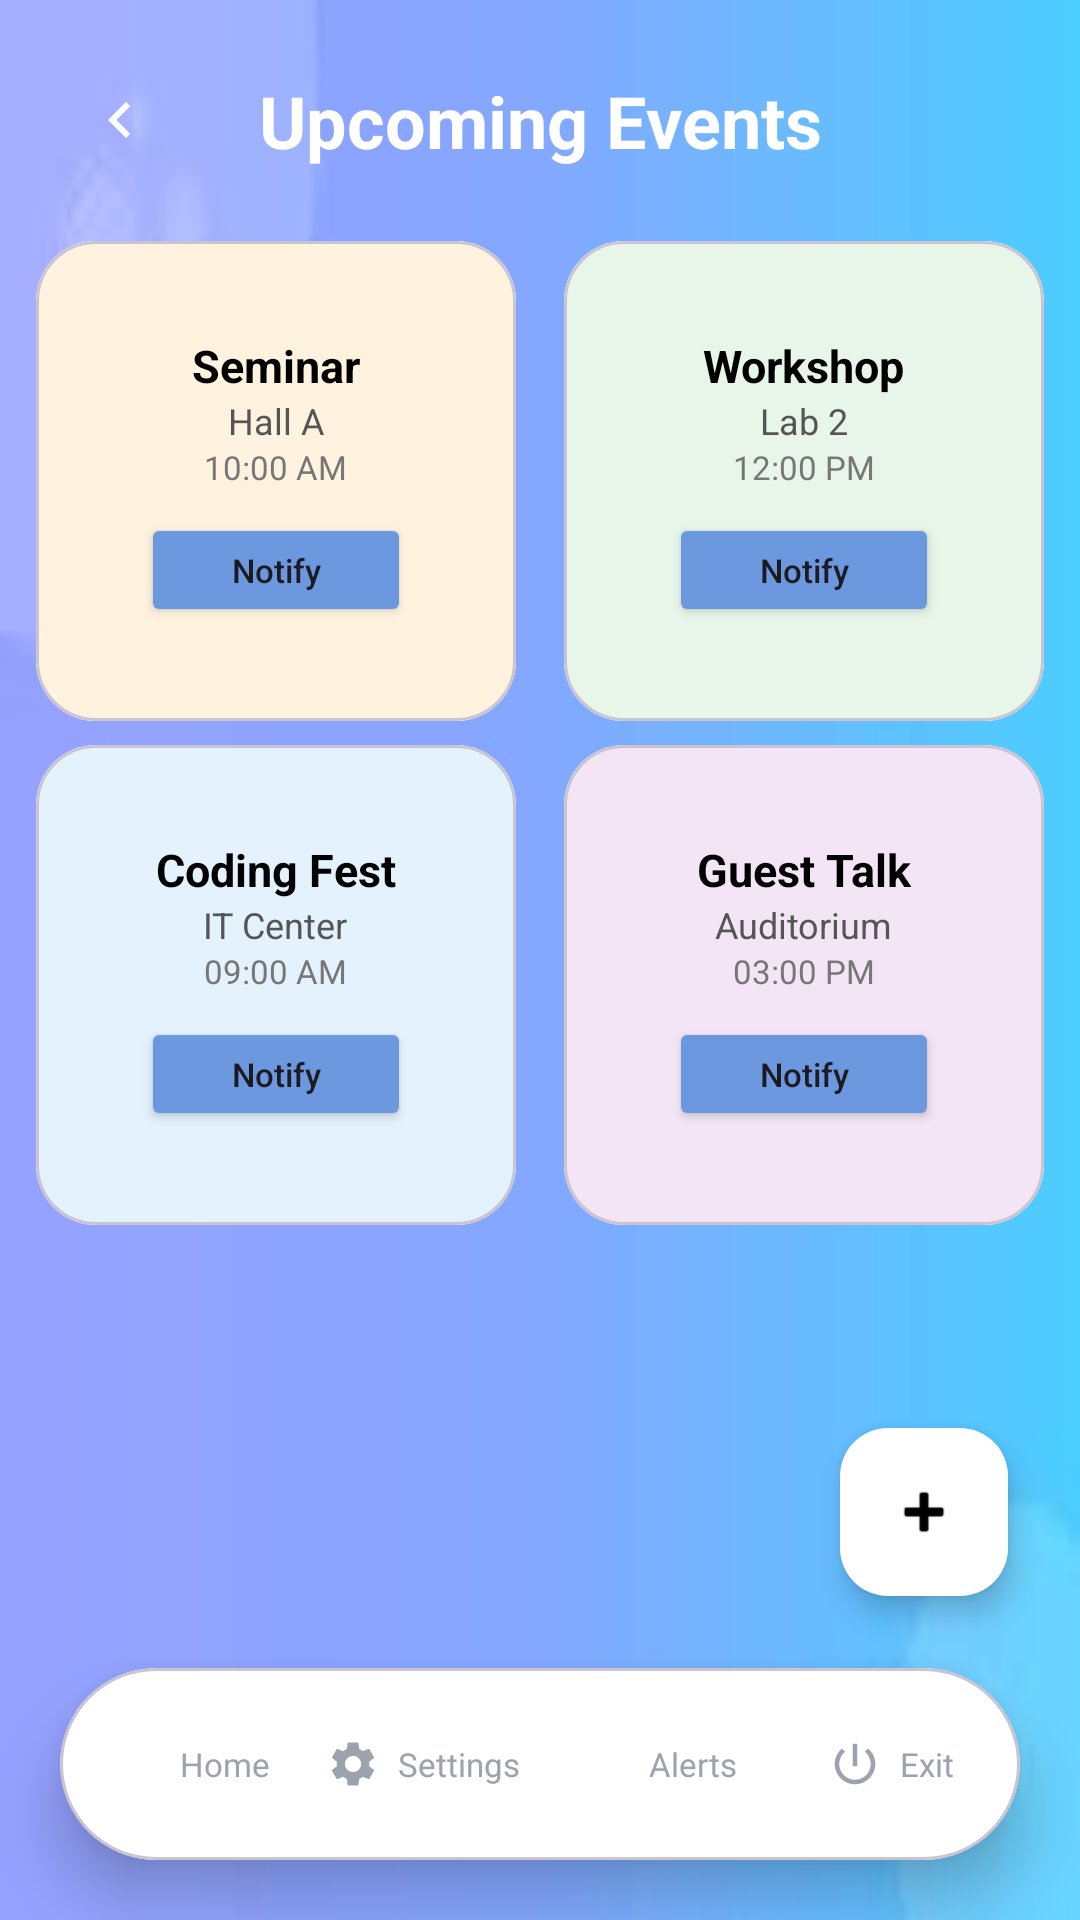

Icon bounding boxes for this 1080px x 1920px phone screenshot, format (x1, y1, x2, y2):
add: (840, 1428, 1008, 1596)
back: (108, 102, 130, 138)
